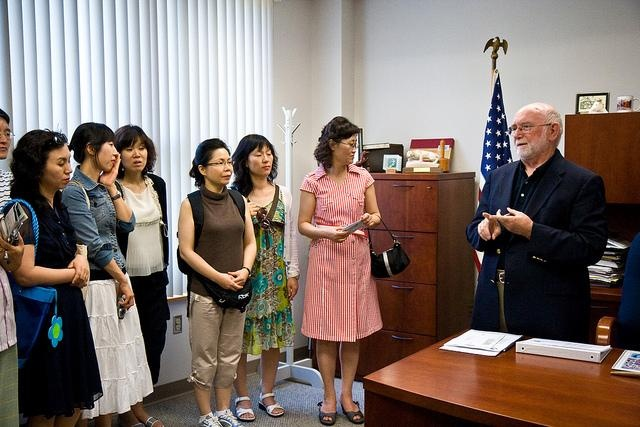person: (463, 98, 609, 329), (58, 115, 159, 427), (298, 113, 395, 424), (4, 127, 89, 427), (178, 140, 262, 427), (107, 124, 178, 427), (231, 130, 301, 422)
